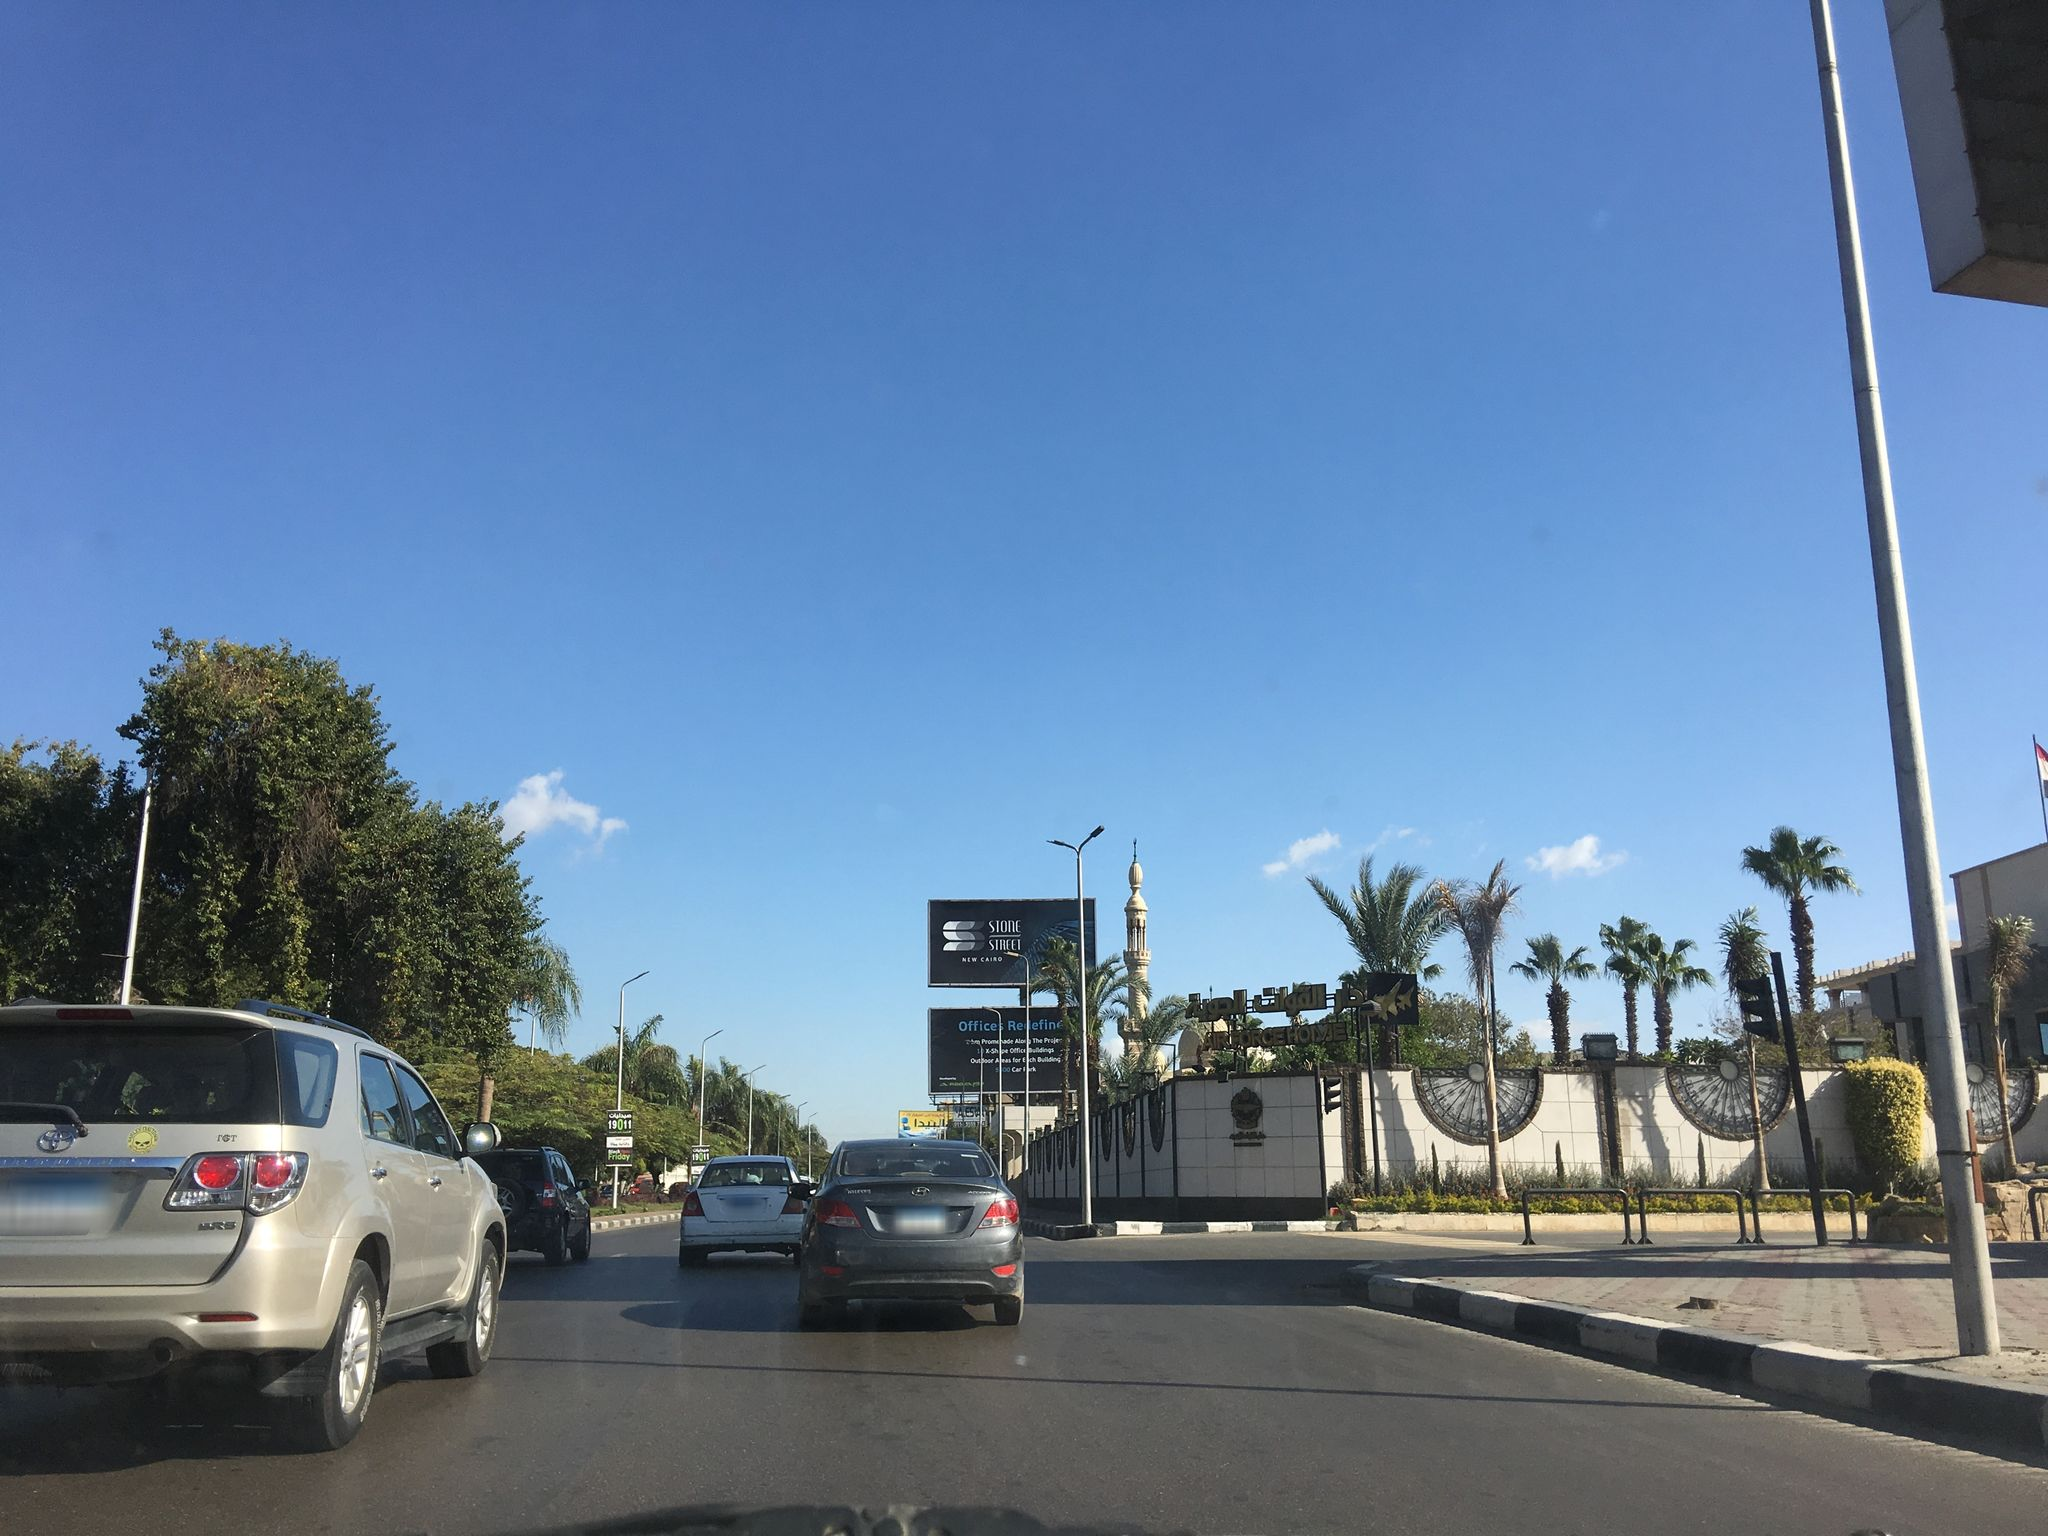car: (0, 992, 514, 1444), (789, 1137, 1026, 1321), (468, 1142, 595, 1271), (676, 1154, 808, 1265)
